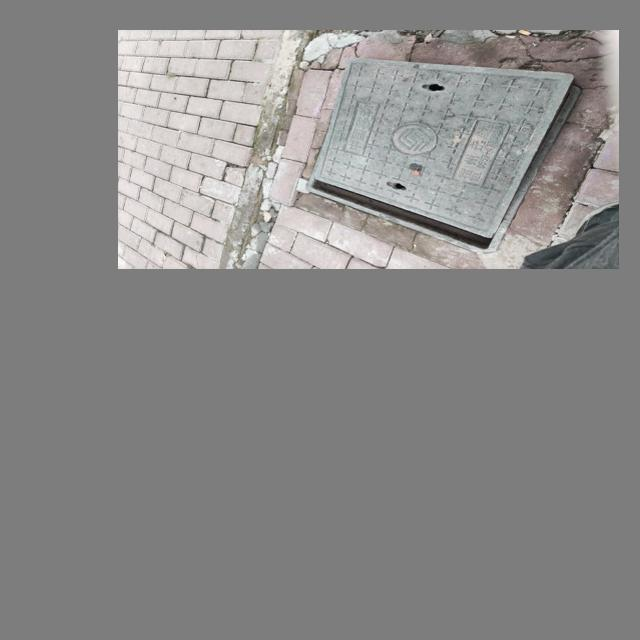uncovered: (304, 56, 590, 252)
